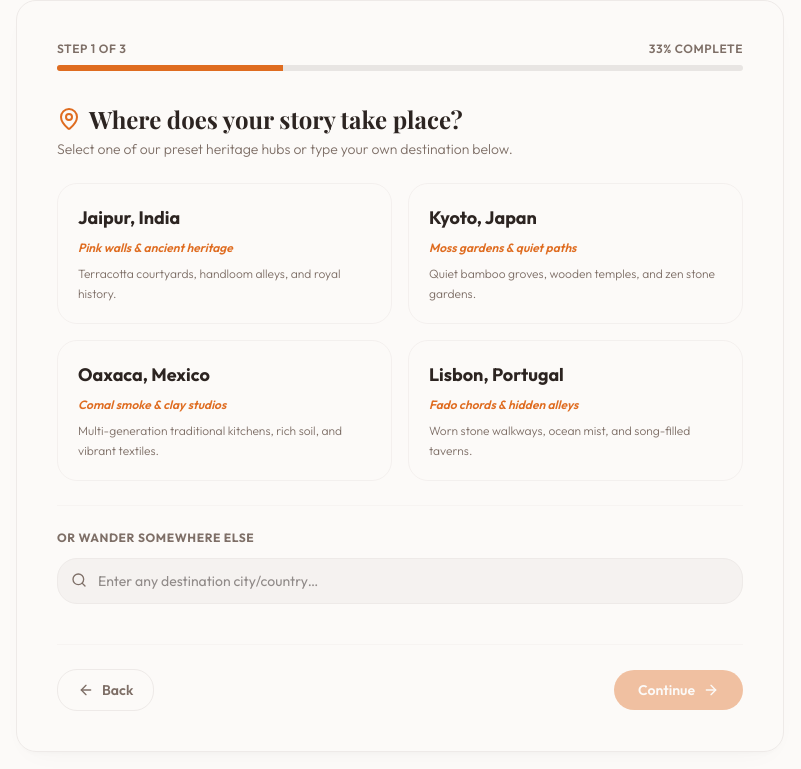
Test: ExperienceForm — Step 1 (Destination) › selecting a preset destination enables Continue
Click the text "Jaipur, India" at (129, 218), box [78,204,180,232]
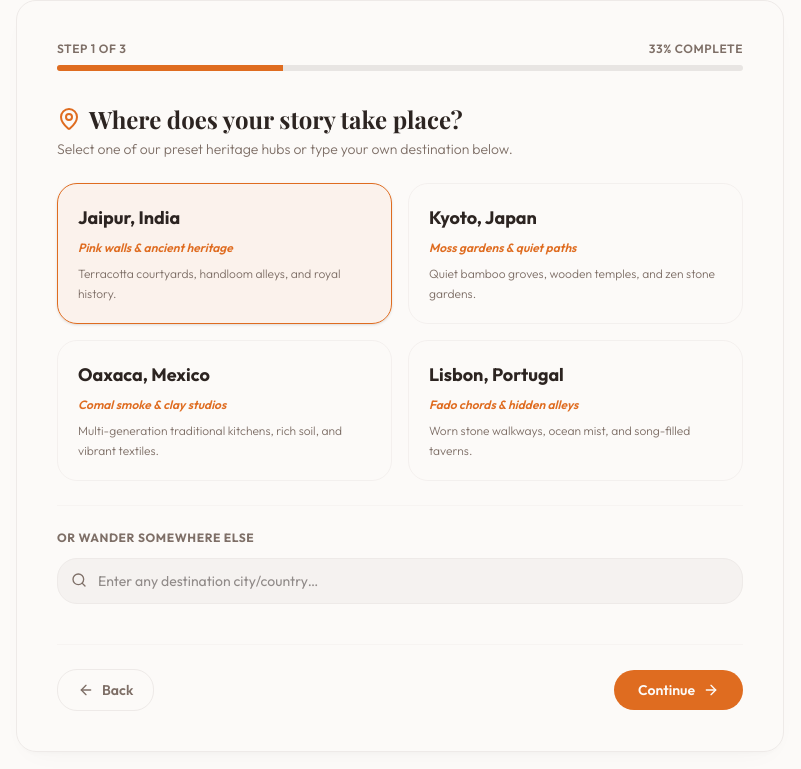
Expected: the button "Continue" is enabled, [614,670,743,710]
